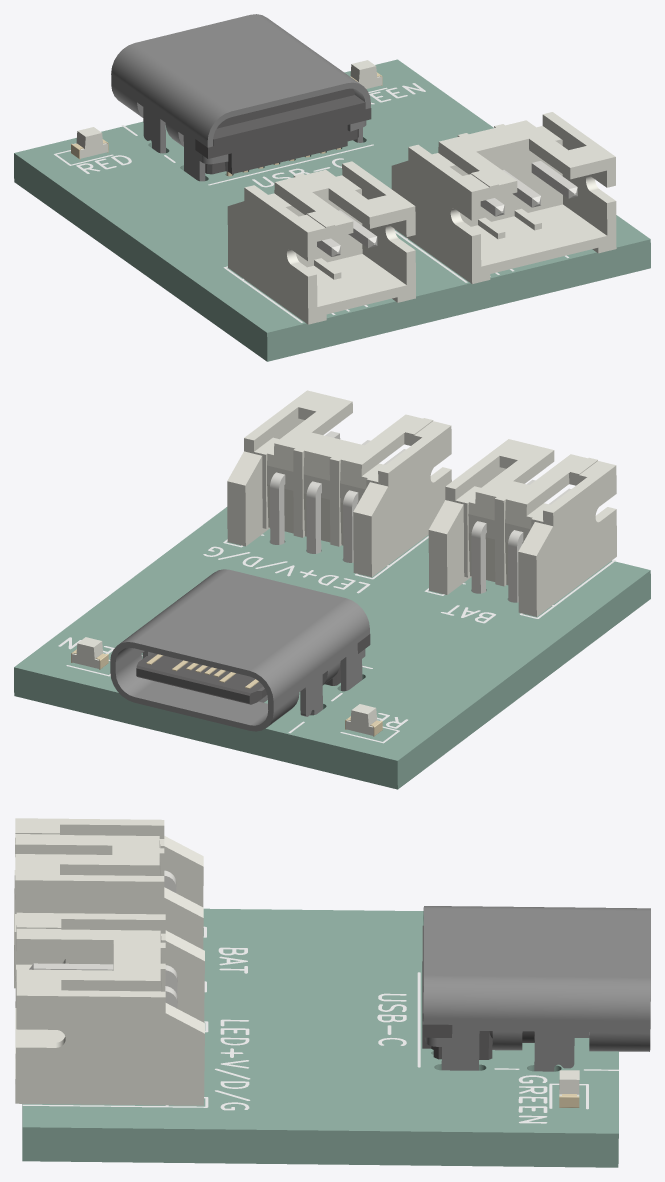
File: Touch Activated Square 3.7v Rechargable LED PCB with Indicator Lighting.glb
3 renders of one model, top to bottom at view 1: azimuth 30°, elevation 25°; view 2: azimuth 150°, elevation 25°; view 3: azimuth 270°, elevation 25°, orthographic. The views are drawn at different scales.
Parts seen in each view (by area): view 1: Square Rechargable 3.7v LED with Indicator Light PCB; view 2: Square Rechargable 3.7v LED with Indicator Light PCB; view 3: Square Rechargable 3.7v LED with Indicator Light PCB.
Part boxes in pixels (box(x1,y1,x2,y2)): Square Rechargable 3.7v LED with Indicator Light PCB: box(14, 14, 650, 361); Square Rechargable 3.7v LED with Indicator Light PCB: box(14, 390, 650, 789); Square Rechargable 3.7v LED with Indicator Light PCB: box(14, 818, 650, 1167).
Bounding box in the file's own units: 2.1 × 0.8325 × 2.56.
